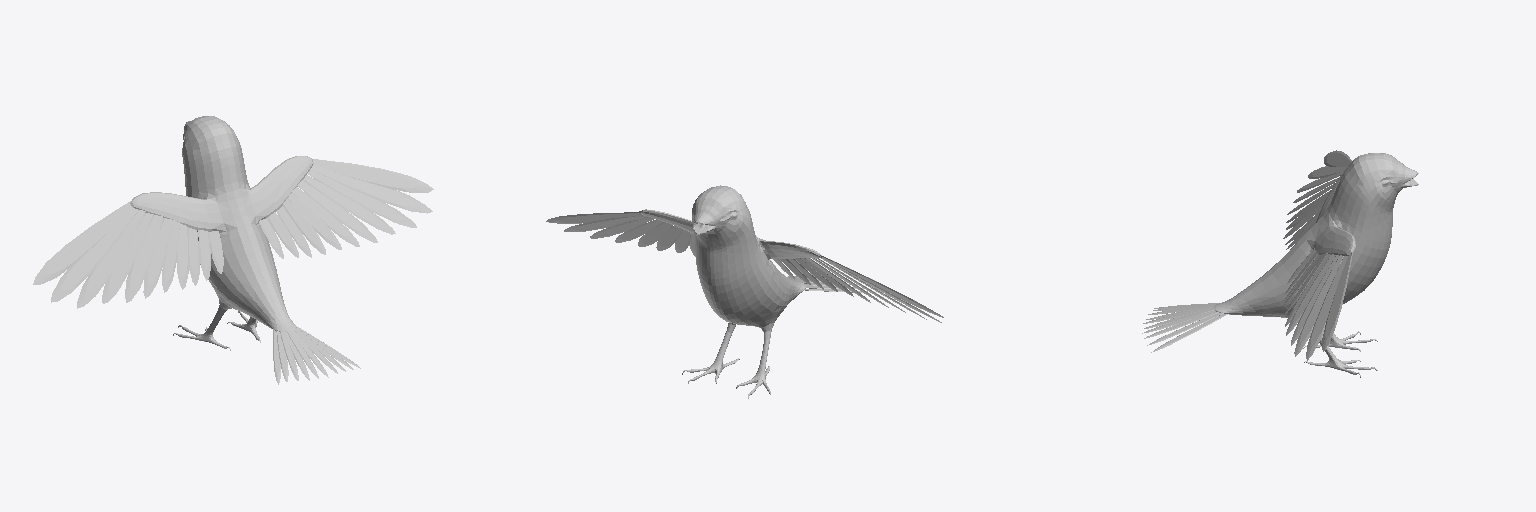
Rendered from bird.obj.
The picture shows the model from 3 angles: view 1: azimuth 30°, elevation 25°; view 2: azimuth 150°, elevation 25°; view 3: azimuth 270°, elevation 25°; orthographic projection.
Visible parts, largest first — view 1: Cube.001; view 2: Cube.001; view 3: Cube.001.
Boxes of the visible parts, x1=… form: Cube.001: x1=33, y1=116, x2=433, y2=384; Cube.001: x1=546, y1=185, x2=943, y2=398; Cube.001: x1=1142, y1=150, x2=1418, y2=377.
Bounding box in the file's own units: 3.23 × 1.56 × 1.94.